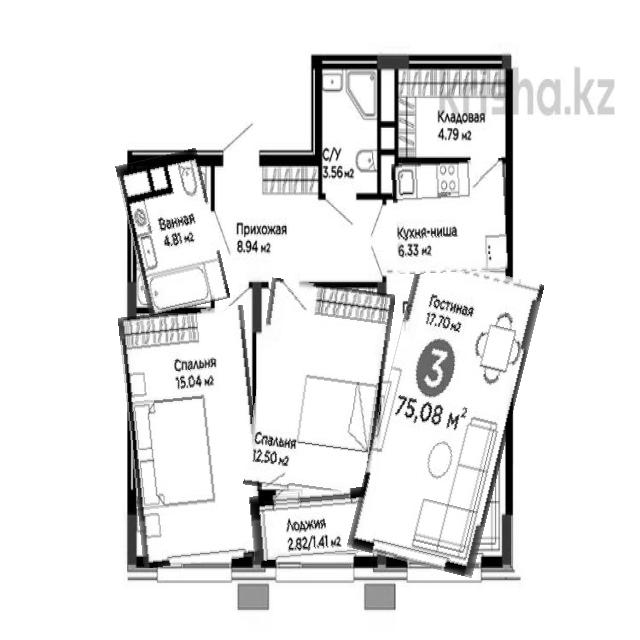balcony: (251, 488, 383, 559)
bathroom: (123, 151, 222, 313)
living_room: (364, 260, 527, 572), (125, 308, 263, 565), (250, 281, 389, 498), (393, 160, 509, 273)
